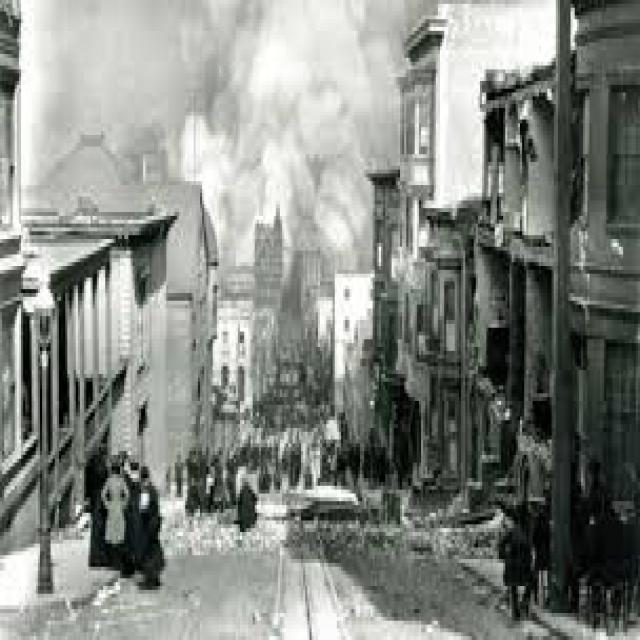smoke: (55, 4, 402, 258)
